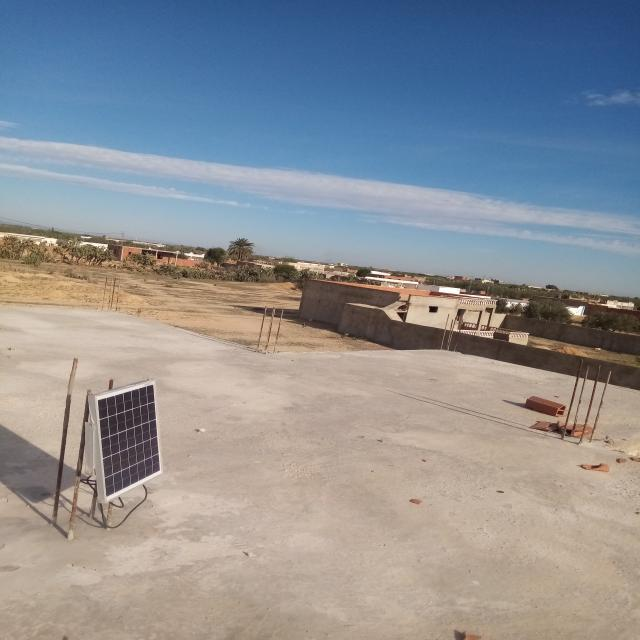no faulty: (94, 378, 162, 502)
